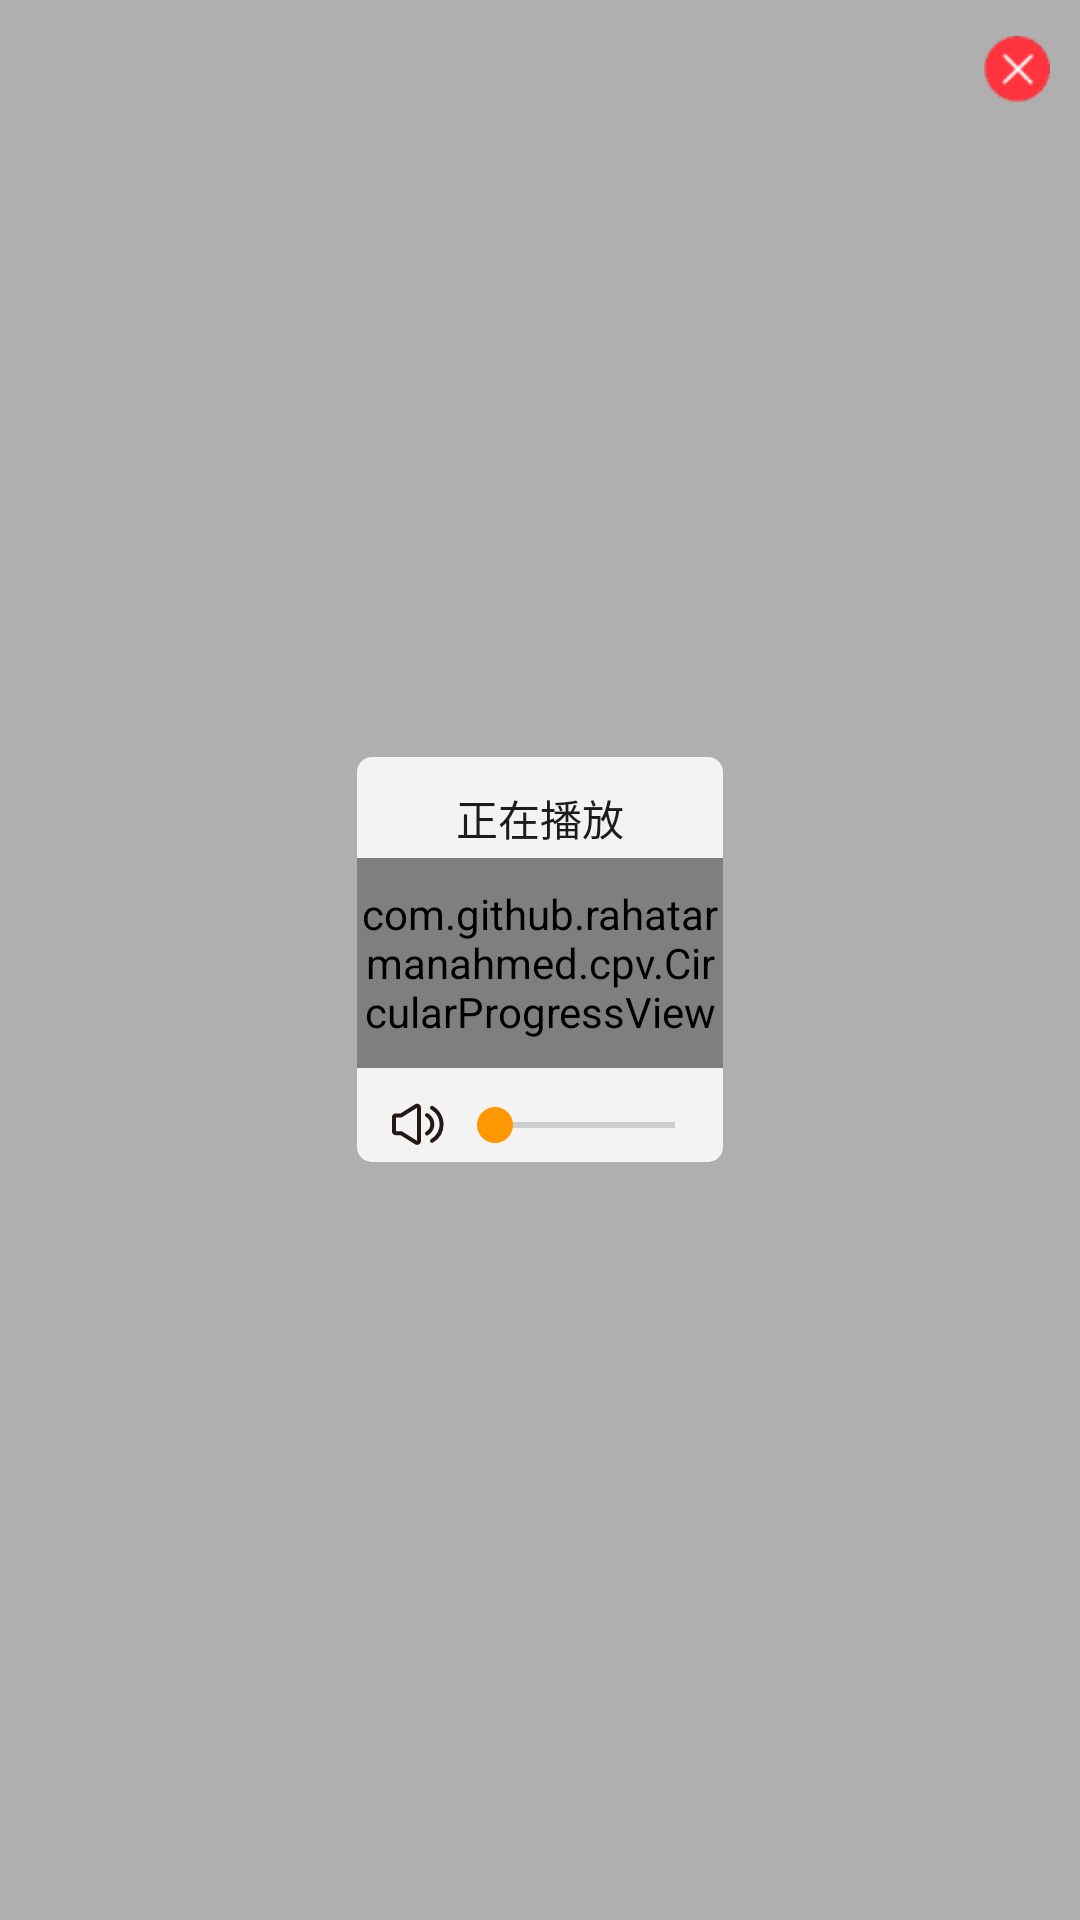

Where to tap for icons on this 1080w x 1920h app screen, as (x,y):
sticker view delete: (1017,69)
volume: (418,1124)
